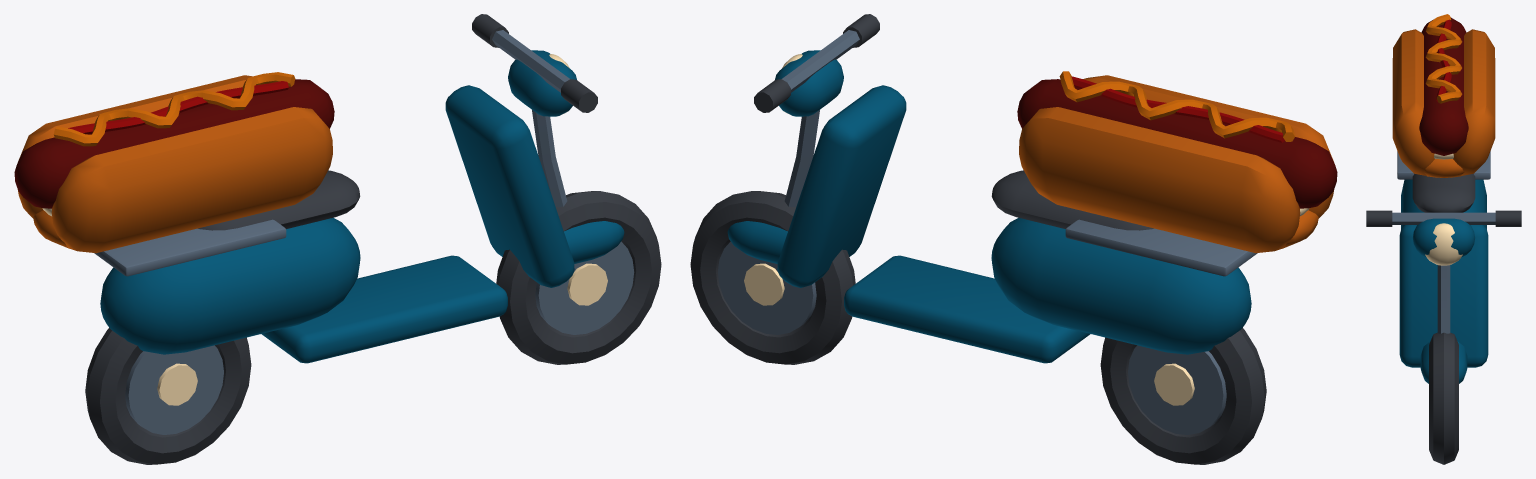
Rendered from DeliveryBike.obj.
3 views of the same model, side by side, from view 1: azimuth 30°, elevation 25°; view 2: azimuth 150°, elevation 25°; view 3: azimuth 270°, elevation 25° (orthographic). The views are drawn at different scales.
Parts seen in each view (by area): view 1: DeliveryBike; view 2: DeliveryBike; view 3: DeliveryBike.
Part boxes in pixels (box(x1,y1,x2,y2)): DeliveryBike: box(14, 14, 661, 464); DeliveryBike: box(690, 14, 1337, 464); DeliveryBike: box(1366, 14, 1521, 464).
Size of the model in its own units: 5.15 by 2.77 by 1.49.
